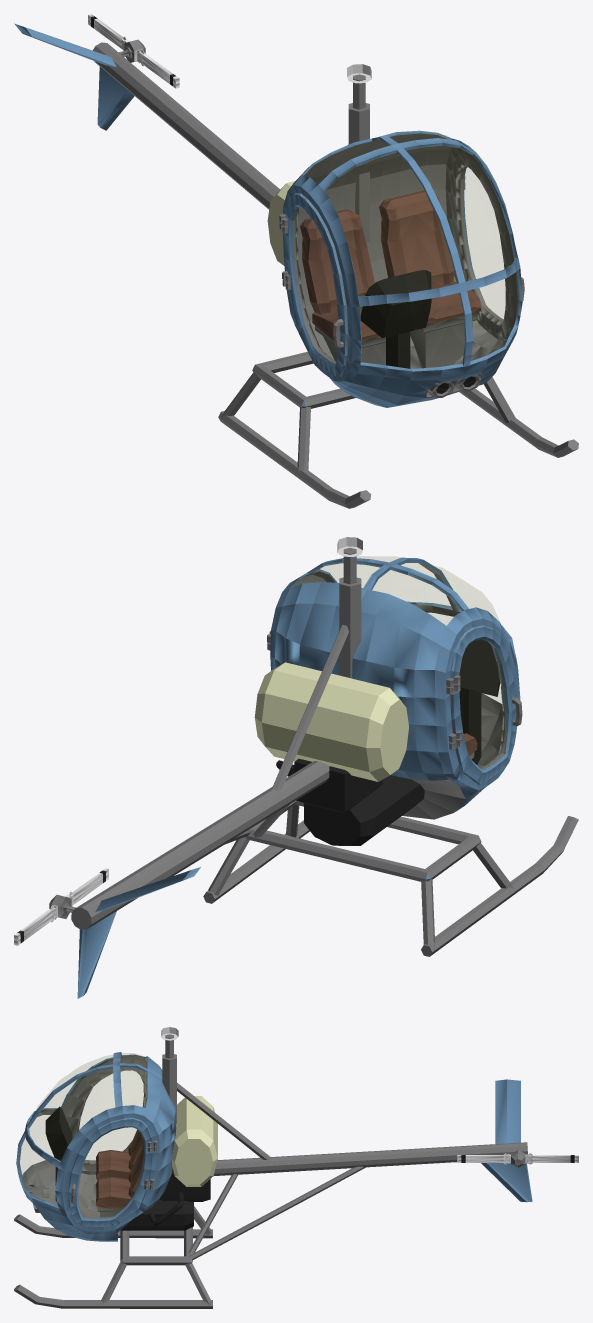
Rendered from aircraft_13_damage.glb.
The picture shows the model from 3 angles, top to bottom: view 1: azimuth 30°, elevation 25°; view 2: azimuth 150°, elevation 25°; view 3: azimuth 270°, elevation 25°; orthographic projection. The views are drawn at different scales.
Visible parts, largest first — view 1: fuselage, seats, landing struts, TailBreakaway, door right, instrument panel, door left, rotor mast, tail rotor, stabilizer, Engine, stabilizer.001; view 2: fuselage, Engine, landing struts, TailBreakaway, door right, glass.001, instrument panel, rotor mast, struts 3, stabilizer, tail rotor, tail boom (+1 smaller); view 3: fuselage, Engine, landing struts, TailBreakaway, door left, seats, glass.001, stabilizer.001, door right, stabilizer, tail rotor, instrument panel (+6 smaller).
Part boxes in pixels (x1,y1,x2,y2): fuselage: [279, 130, 522, 407]; seats: [300, 190, 481, 368]; landing struts: [218, 351, 578, 508]; TailBreakaway: [92, 42, 280, 209]; door right: [282, 193, 348, 378]; instrument panel: [360, 270, 431, 368]; door left: [451, 154, 524, 338]; rotor mast: [347, 64, 371, 242]; tail rotor: [88, 14, 179, 88]; stabilizer: [97, 66, 134, 130]; Engine: [267, 181, 294, 265]; stabilizer.001: [14, 23, 116, 67]; fuselage: [267, 557, 520, 819]; Engine: [254, 662, 424, 845]; landing struts: [203, 800, 578, 956]; TailBreakaway: [71, 792, 278, 929]; door right: [450, 625, 522, 784]; glass.001: [315, 556, 498, 624]; instrument panel: [459, 639, 500, 764]; rotor mast: [337, 537, 362, 678]; struts 3: [272, 624, 348, 790]; stabilizer: [77, 911, 116, 998]; tail rotor: [14, 868, 108, 945]; tail boom: [263, 761, 329, 812]; fuselage: [16, 1052, 176, 1241]; Engine: [120, 1096, 217, 1230]; landing struts: [14, 1206, 212, 1308]; TailBreakaway: [277, 1142, 527, 1172]; door left: [68, 1118, 152, 1226]; seats: [96, 1107, 145, 1217]; glass.001: [20, 1053, 145, 1176]; stabilizer.001: [495, 1079, 520, 1143]; door right: [70, 1063, 146, 1171]; stabilizer: [481, 1163, 532, 1202]; tail rotor: [457, 1150, 578, 1167]; instrument panel: [45, 1106, 72, 1201].
Bounding box in the file's own units: 1.97 × 2.98 × 6.3.
